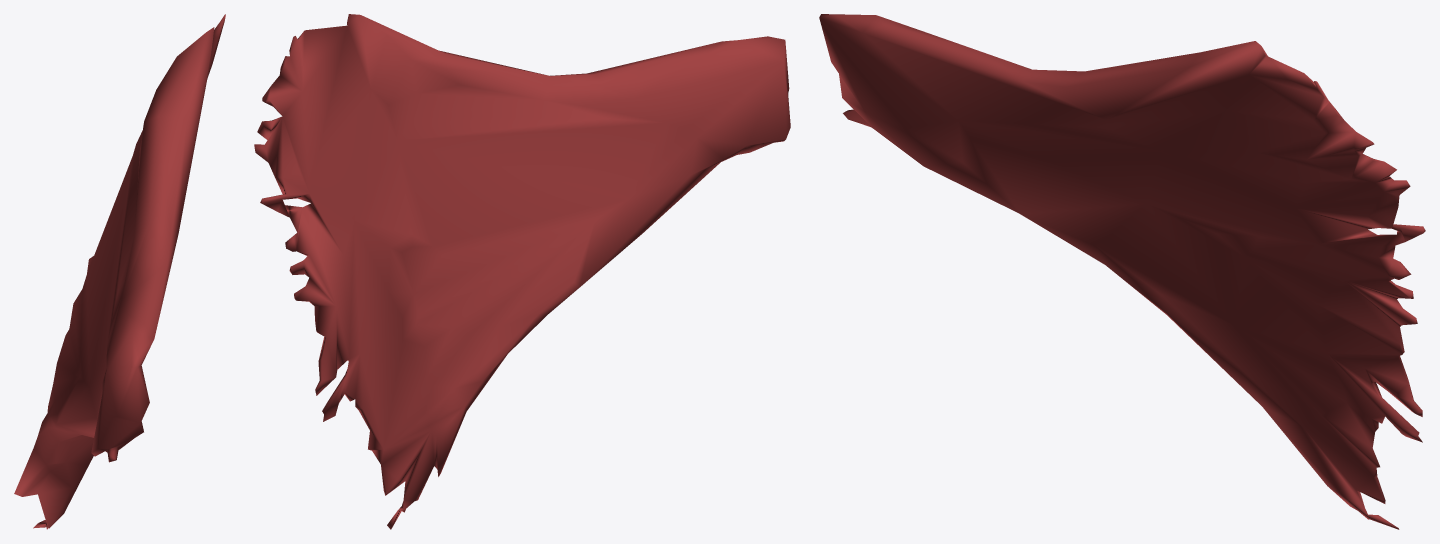
File: risorius-muscle-l.glb
3 renders of one model, left to right at view 1: azimuth 30°, elevation 25°; view 2: azimuth 150°, elevation 25°; view 3: azimuth 270°, elevation 25°, orthographic. The views are drawn at different scales.
Parts seen in each view (by area): view 1: Risorius muscle.l; view 2: Risorius muscle.l; view 3: Risorius muscle.l.
Boxes of the visible parts, x1,y1,x2,y2 form: Risorius muscle.l: (14,14,225,529); Risorius muscle.l: (254,14,790,529); Risorius muscle.l: (819,14,1425,529).
Bounding box in the file's own units: 0.0197 × 0.0272 × 0.0275.
